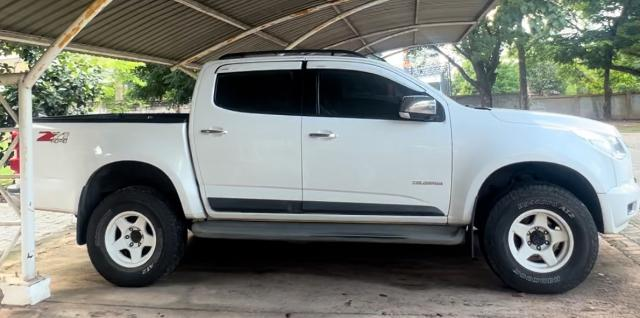pickup-truck: (11, 56, 639, 293)
